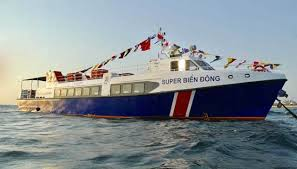tau_dansu: (14, 48, 289, 119)
